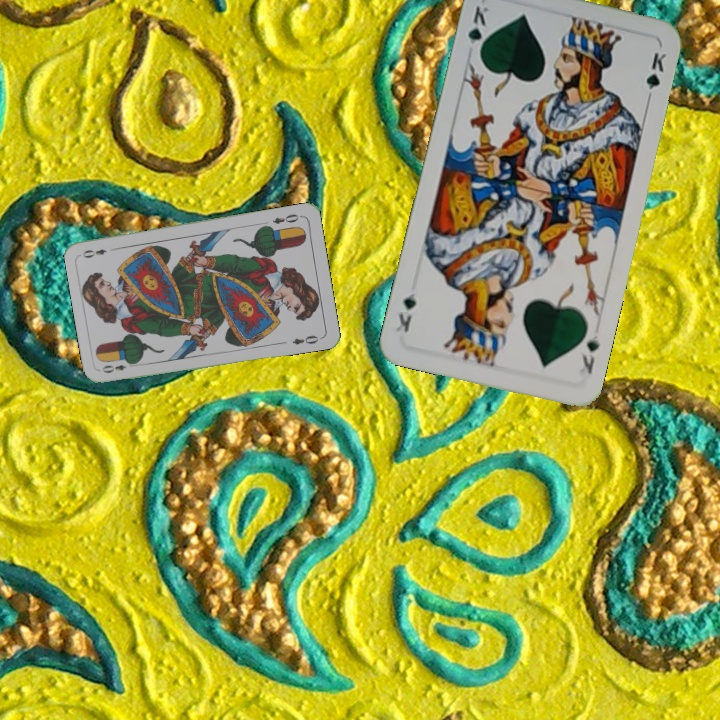EO: (98, 357, 138, 376), (268, 210, 304, 226)
GK: (464, 1, 491, 60), (577, 331, 602, 377)
